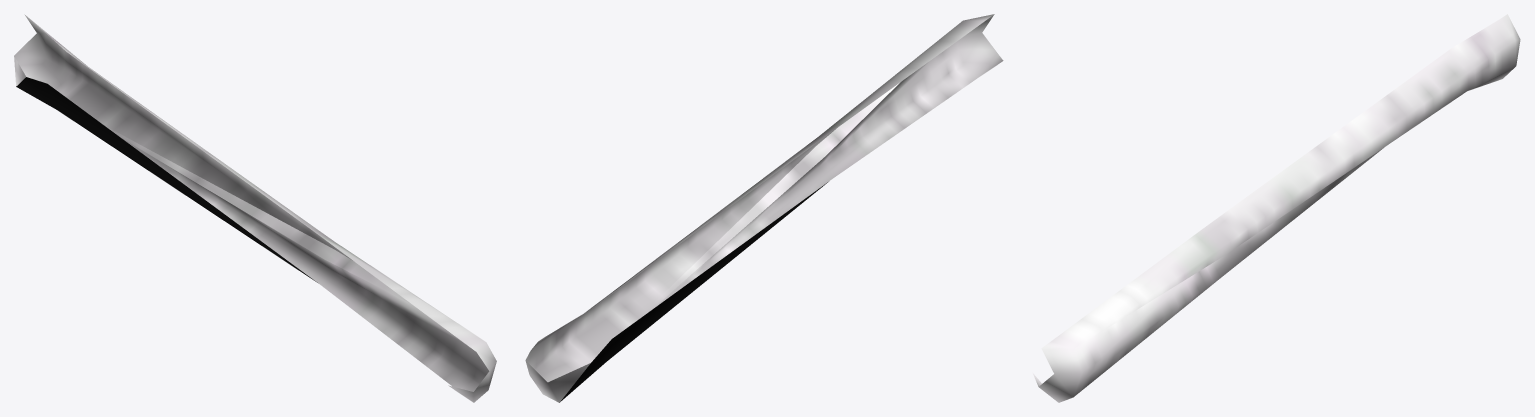
3 views of the same model, side by side, from view 1: azimuth 30°, elevation 25°; view 2: azimuth 150°, elevation 25°; view 3: azimuth 330°, elevation 25° (orthographic). The views are drawn at different scales.
Visible parts, largest first — view 1: wg_r_a_s; view 2: wg_r_a_s; view 3: wg_r_a_s.
Boxes of the visible parts, x1,y1,x2,y2 form: wg_r_a_s: [14, 14, 496, 402]; wg_r_a_s: [525, 14, 1003, 402]; wg_r_a_s: [1033, 14, 1520, 402].
Size of the model in its own units: 0.1383 by 0.1751 by 2.22.
Materials: 2 (1 with a texture image).
